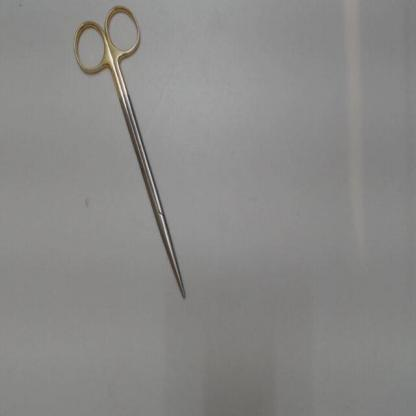7 Metzenbaum Scissors: (70, 3, 187, 299)
